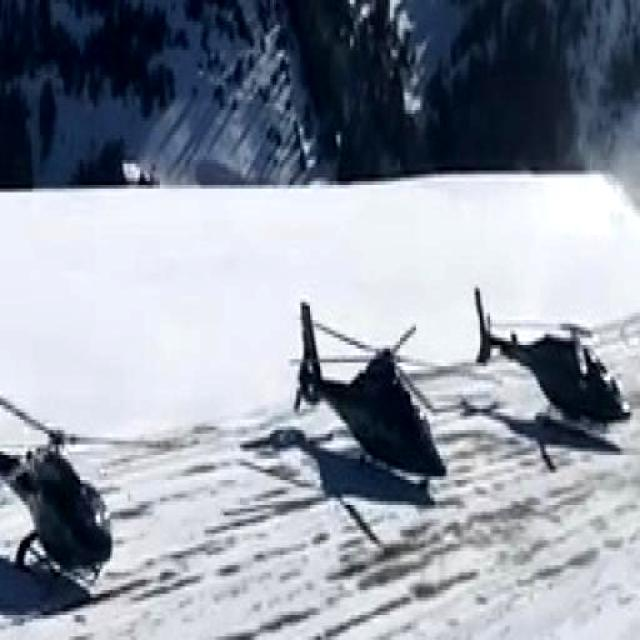drone: (286, 294, 448, 495), (0, 372, 122, 585), (471, 282, 631, 431)
